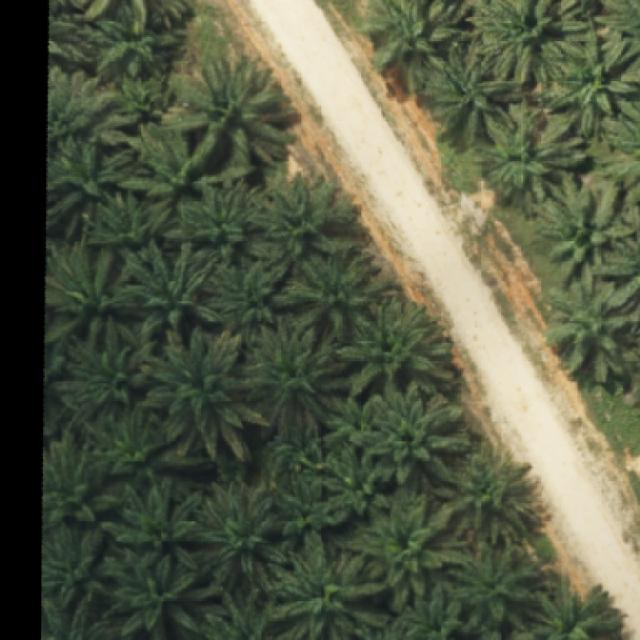Kelapa_Sawit: (140, 324, 268, 464), (170, 50, 298, 167), (115, 121, 257, 210), (540, 169, 638, 297), (243, 324, 352, 438), (358, 491, 462, 607), (544, 13, 640, 138), (53, 314, 158, 428), (544, 262, 640, 383), (338, 301, 450, 401), (361, 382, 470, 483), (117, 240, 225, 334), (208, 257, 318, 349), (423, 42, 522, 143), (200, 477, 291, 585), (246, 170, 357, 258), (287, 252, 393, 342), (102, 478, 202, 573), (448, 538, 542, 636), (479, 120, 588, 203), (457, 452, 543, 546), (166, 176, 274, 247), (81, 186, 174, 265), (273, 472, 349, 566), (84, 411, 188, 475), (325, 444, 398, 518), (105, 68, 177, 130), (324, 394, 379, 458), (272, 422, 320, 482)
